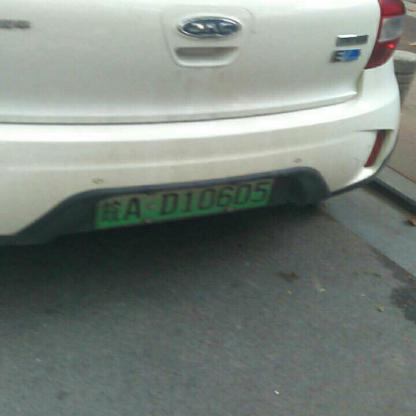lp: (99, 177, 274, 229)
